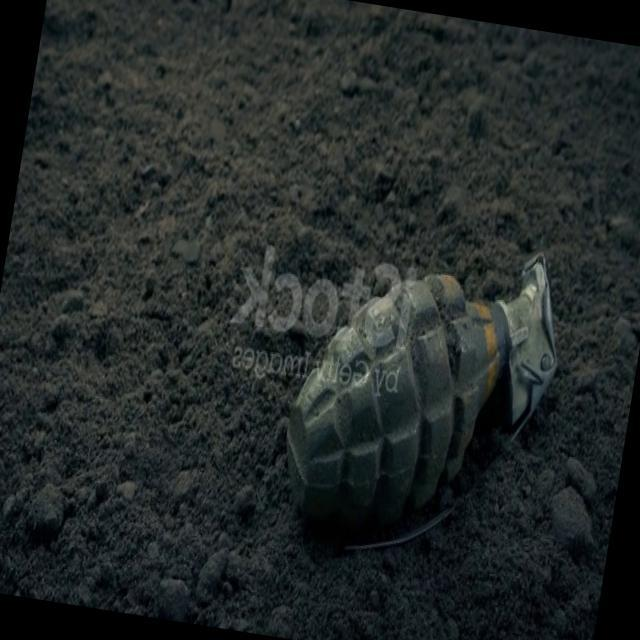grenade: (272, 222, 573, 584)
